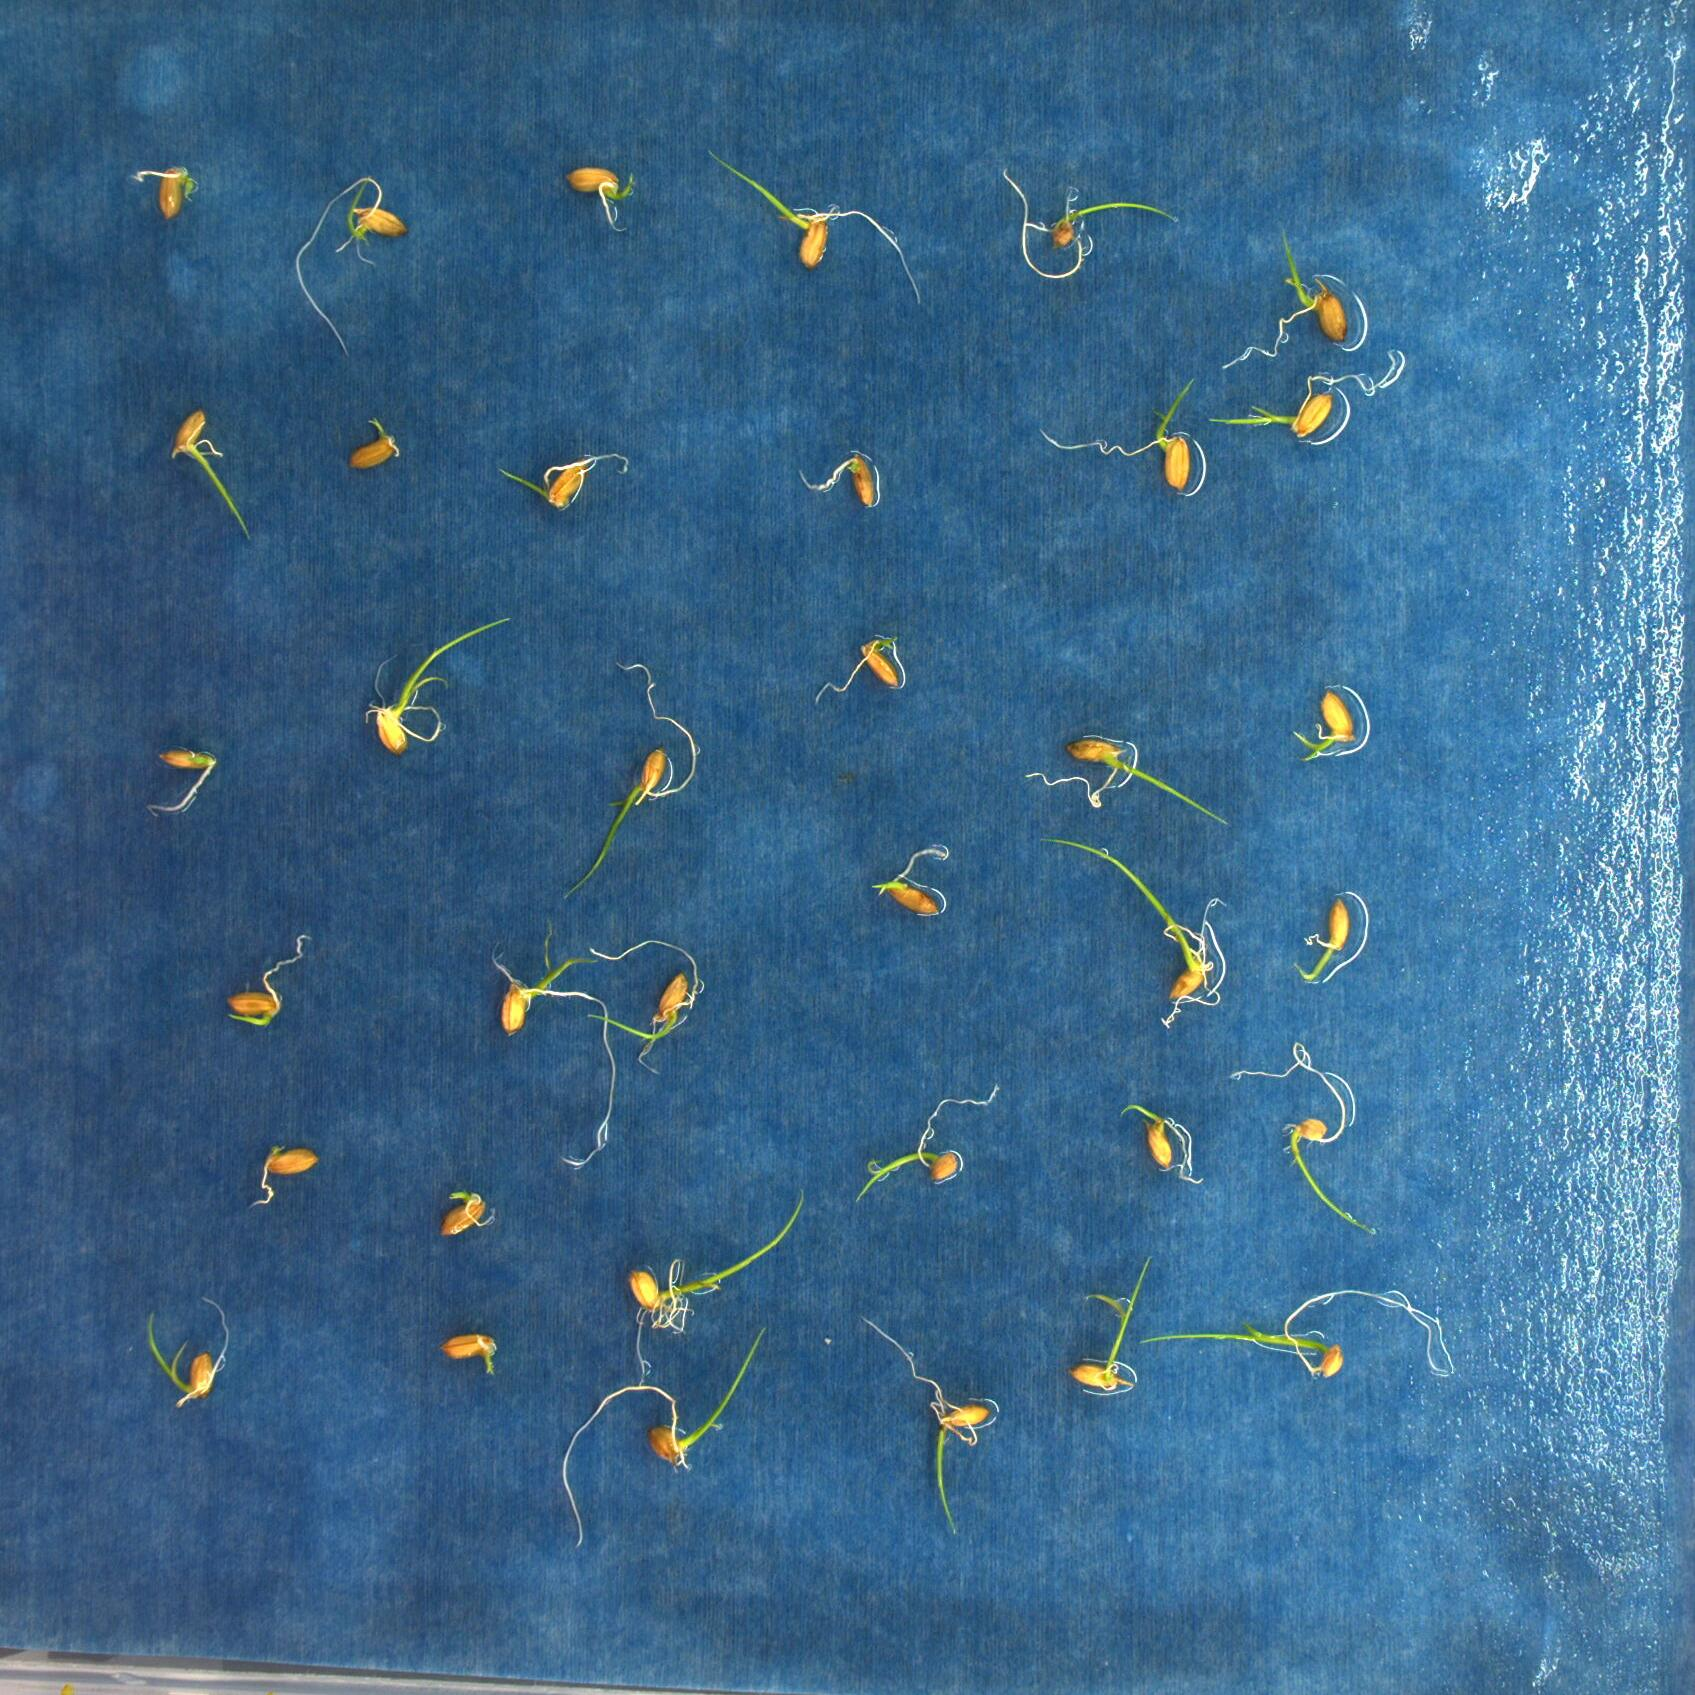not sprout: (796, 449, 875, 512), (147, 748, 217, 816), (248, 1139, 317, 1205)
sprout: (563, 1326, 767, 1549), (622, 1184, 804, 1388), (1042, 840, 1229, 1031), (705, 146, 924, 307), (563, 660, 697, 896), (1141, 1285, 1458, 1381), (489, 920, 612, 1169), (861, 1316, 995, 1541), (1232, 1043, 1375, 1239), (362, 613, 512, 757), (292, 175, 407, 359), (1021, 733, 1236, 829), (1004, 168, 1183, 278), (1222, 222, 1347, 369), (857, 1083, 1003, 1208), (1042, 377, 1197, 494), (585, 941, 706, 1077), (1211, 368, 1374, 445), (169, 407, 258, 540), (1073, 1254, 1149, 1397), (144, 1295, 227, 1409), (224, 930, 317, 1028), (1119, 1104, 1205, 1189), (498, 453, 629, 509), (815, 632, 900, 709), (869, 847, 950, 920), (560, 165, 636, 234), (1291, 896, 1349, 981), (1288, 691, 1357, 761), (135, 165, 199, 220), (438, 1189, 494, 1239), (349, 418, 400, 469), (442, 1333, 501, 1374)
